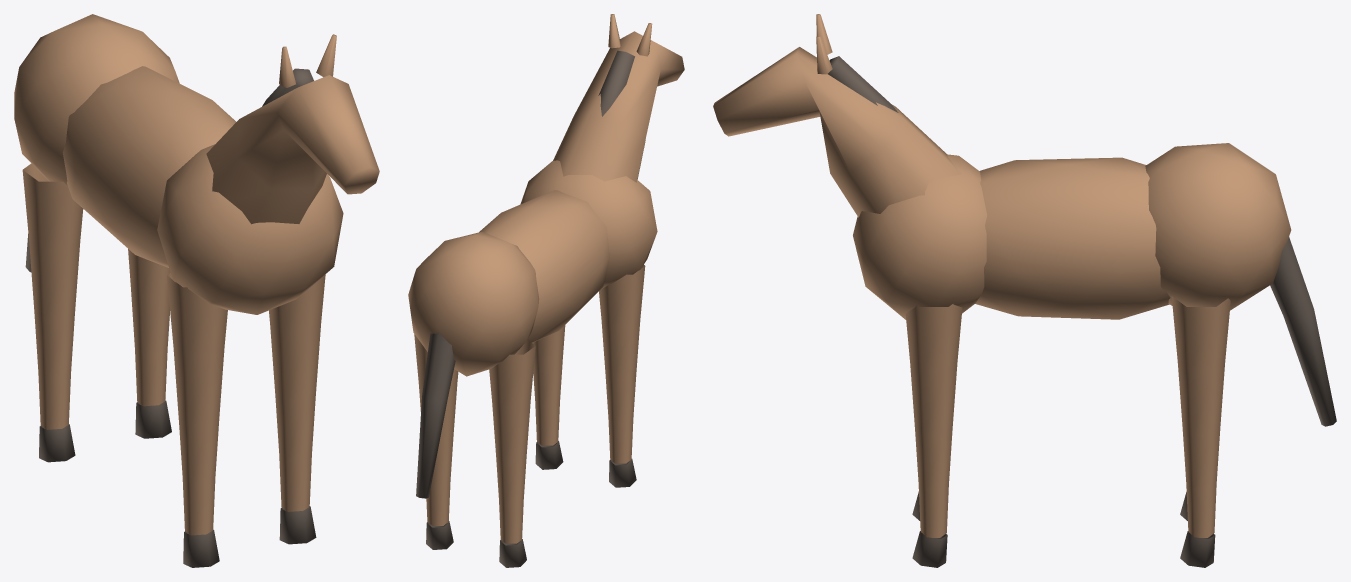
Rendered from horse_1.glb.
The picture shows the model from 3 angles, left to right: view 1: azimuth 30°, elevation 25°; view 2: azimuth 150°, elevation 25°; view 3: azimuth 270°, elevation 25°; orthographic projection. The views are drawn at different scales.
Visible parts, largest first — view 1: horse_1.glb; view 2: horse_1.glb; view 3: horse_1.glb.
Part boxes in pixels (x1,y1,x2,y2): horse_1.glb: (14, 14, 379, 567); horse_1.glb: (408, 14, 684, 567); horse_1.glb: (713, 14, 1336, 567).
Size of the model in its own units: 0.5715 by 1.87 by 2.05.
